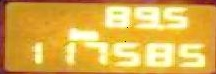-: (154, 22, 163, 31)
1: (29, 40, 42, 63), (63, 41, 74, 64)
5: (109, 40, 140, 65), (176, 42, 205, 67), (160, 5, 187, 28)
7: (78, 40, 107, 63)
8: (143, 40, 174, 65), (100, 4, 129, 28)
9: (131, 4, 158, 28)
X: (78, 29, 98, 39), (65, 25, 78, 39)
